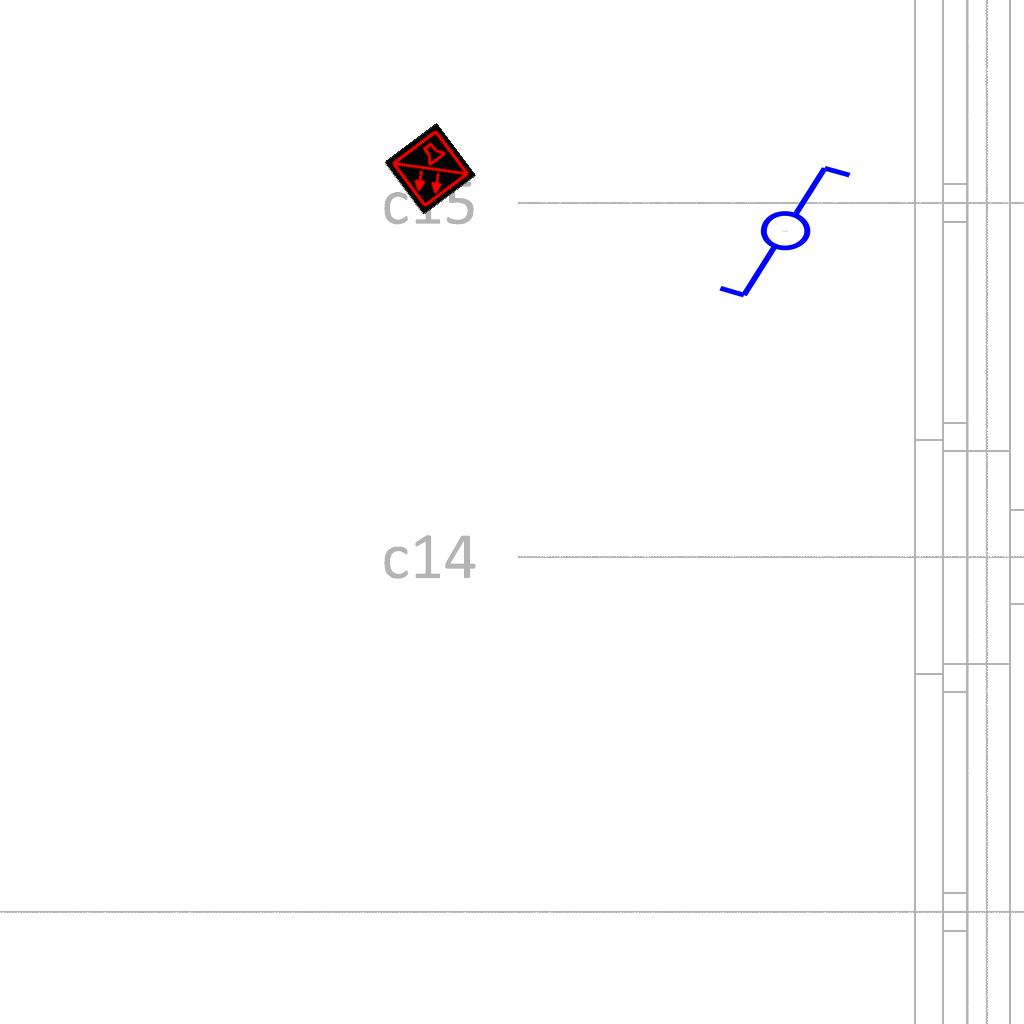OKW_Multisensormelder_(Kombination_optischer_Rauch-Kahlenmonoxid_Waerme-Melder): (383, 122, 477, 216)
Wechselschalter: (715, 161, 872, 305)
